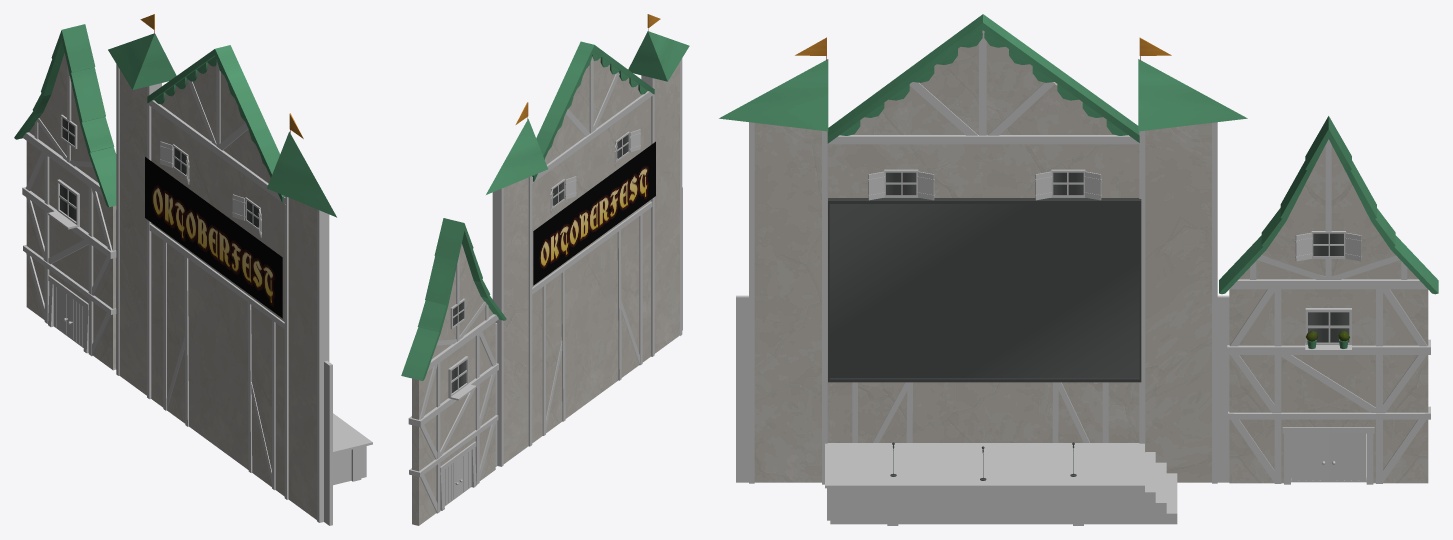
The model's file is StageBackGround_Art.fbx.
3 views of the same model, side by side, from view 1: azimuth 30°, elevation 25°; view 2: azimuth 150°, elevation 25°; view 3: azimuth 270°, elevation 25° (orthographic). The views are drawn at different scales.
Parts seen in each view (by area): view 1: StageBackground_Art; view 2: StageBackground_Art; view 3: StageBackground_Art.
Boxes of the visible parts, x1,y1,x2,y2 form: StageBackground_Art: (14, 14, 372, 525); StageBackground_Art: (401, 14, 689, 525); StageBackground_Art: (719, 14, 1438, 525).
Bounding box in the file's own units: 647 × 2368 × 3342.
